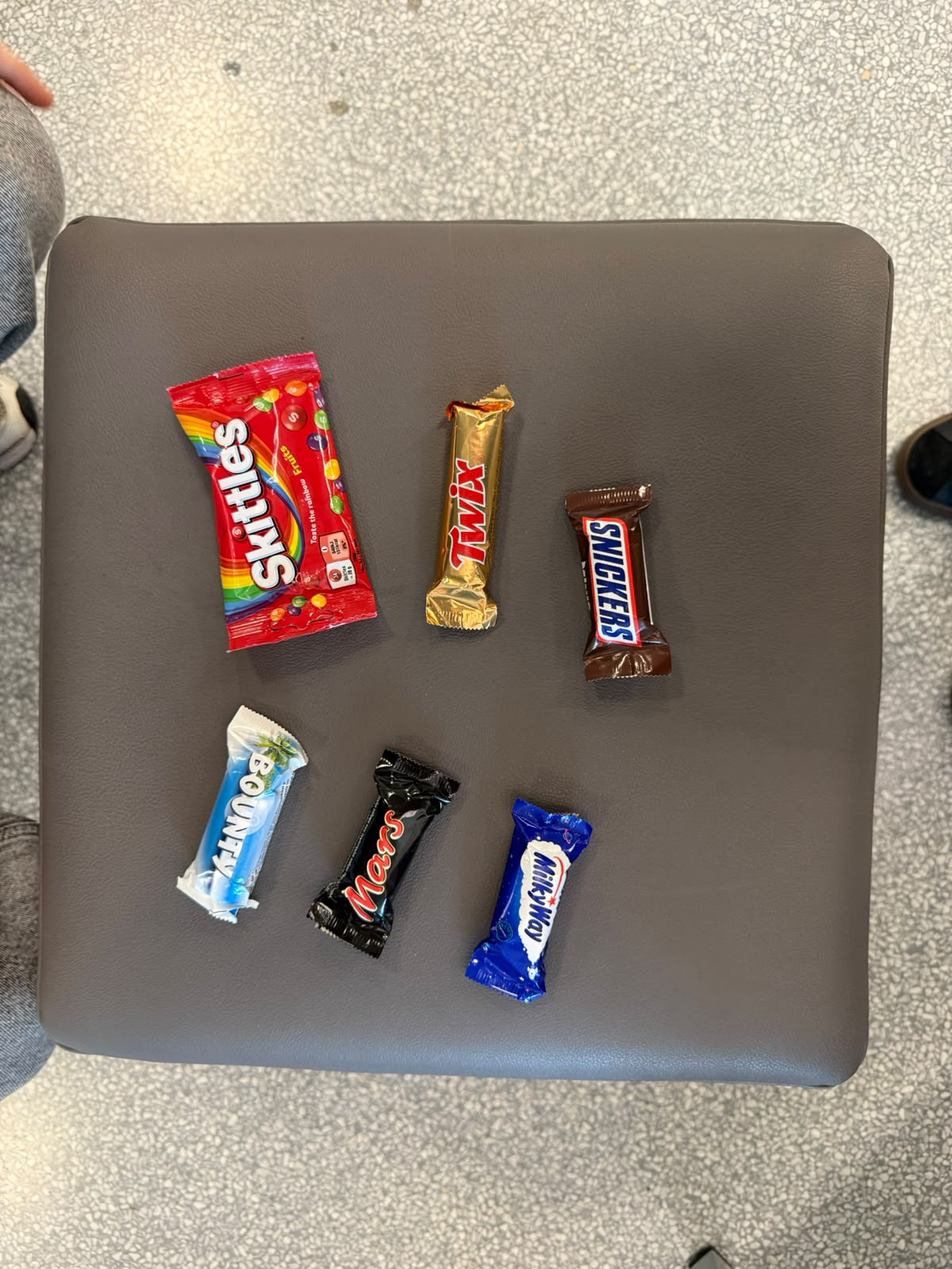Bounty: (239, 692, 322, 913)
Mars: (397, 732, 478, 963)
MilkyWay: (522, 773, 618, 1002)
Skittles: (162, 366, 326, 689)
Snickers: (555, 468, 689, 693)
Twix: (440, 374, 519, 650)
